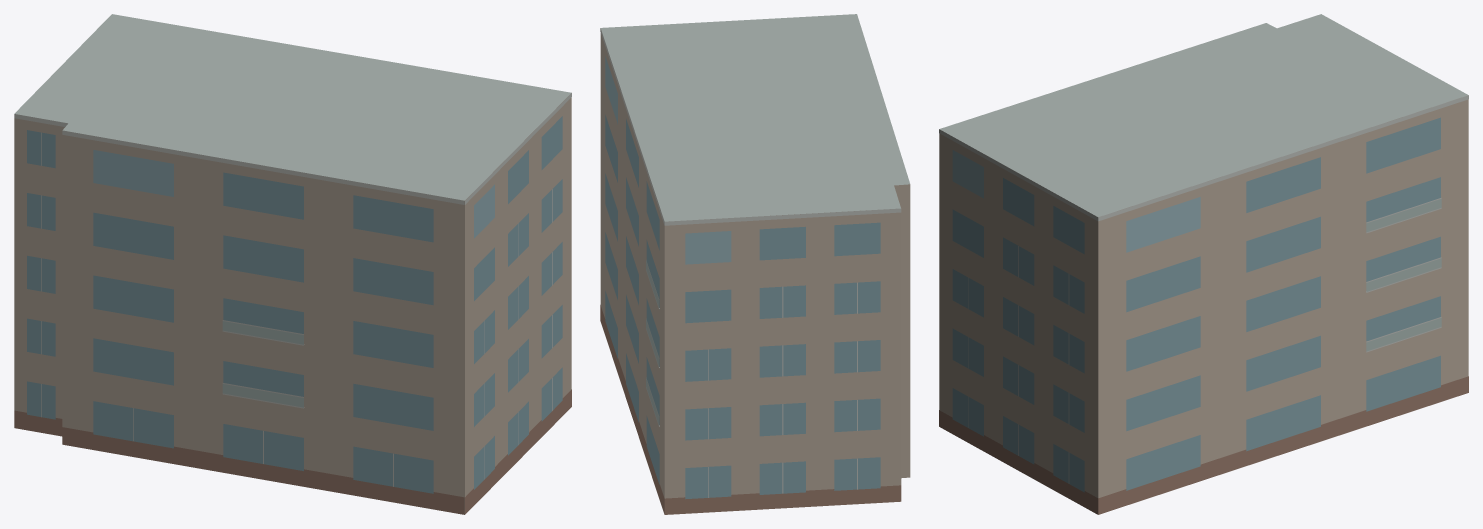
The model's file is survey-upis-32935255.glb.
The picture shows the model from 3 angles, left to right: view 1: azimuth 30°, elevation 25°; view 2: azimuth 150°, elevation 25°; view 3: azimuth 270°, elevation 25°; orthographic projection. The views are drawn at different scales.
Parts seen in each view (by area): view 1: survey-upis-32935255.tmp; view 2: survey-upis-32935255.tmp; view 3: survey-upis-32935255.tmp.
Part boxes in pixels (left/top/right/bottom): survey-upis-32935255.tmp: left=14, top=14, right=571, bottom=514; survey-upis-32935255.tmp: left=600, top=14, right=910, bottom=514; survey-upis-32935255.tmp: left=939, top=14, right=1468, bottom=514.
Size of the model in its own units: 25.78 by 17.59 by 28.38.
